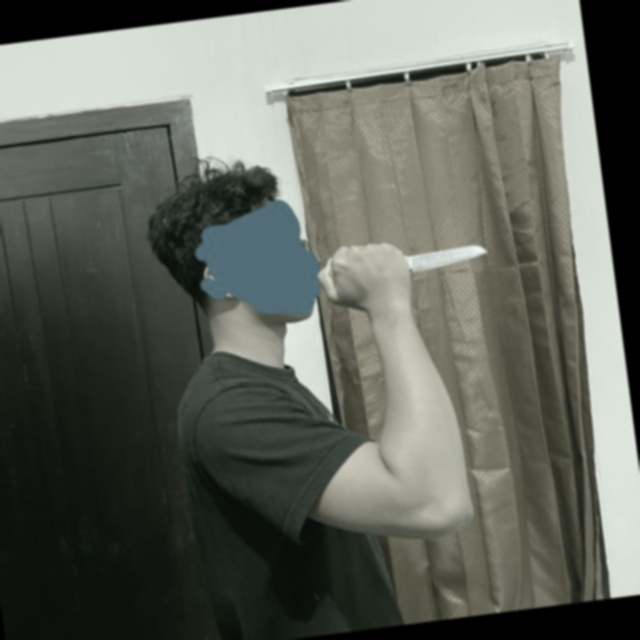Sharp-Object: (404, 242, 491, 275)
